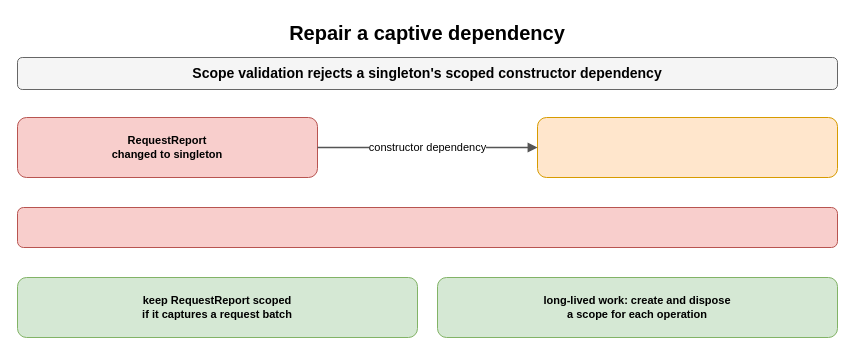
The diagram is 855 pixels wide and 355 high, and some of its shapes have lost their labels. The shapes that lost their labels are listed below. From the top down, each one's centre as x and y in pixels, then its label:
[687,147]: Batch scoped
[427,227]: scope validation rejects the singleton report
